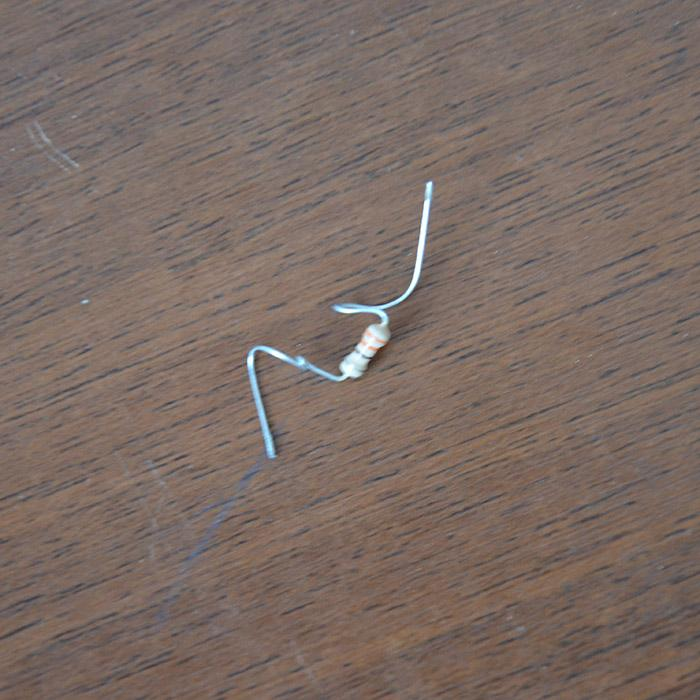resistor: (339, 318, 389, 378)
